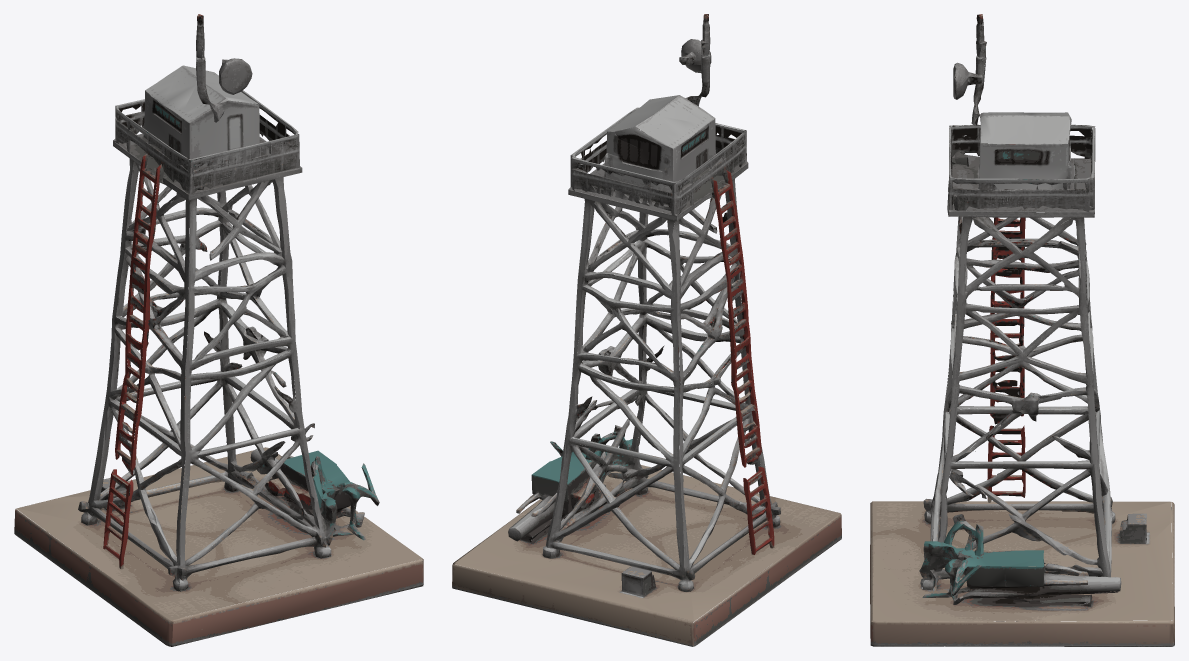
File: tower.glb
3 views of the same model, side by side, from view 1: azimuth 30°, elevation 25°; view 2: azimuth 150°, elevation 25°; view 3: azimuth 270°, elevation 25° (orthographic). The views are drawn at different scales.
Visible parts, largest first — view 1: tower; view 2: tower; view 3: tower.
Boxes of the visible parts, x1=… form: tower: x1=14, y1=14, x2=423, y2=646; tower: x1=452, y1=14, x2=841, y2=646; tower: x1=870, y1=14, x2=1174, y2=646.
Size of the model in its own units: 2.45 by 5.2 by 2.6.
Materials: 1 (1 with a texture image).
